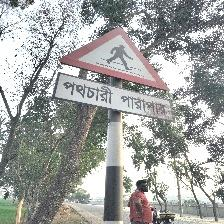Pedestrian-crossing: (54, 26, 173, 120)
